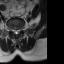CCS_normal: (15, 26, 17, 36)
LFS_normal: (19, 25, 22, 33)
LLS_normal: (17, 26, 19, 35)
RFS_normal: (10, 26, 13, 33)
RLS_normal: (13, 27, 15, 34)
